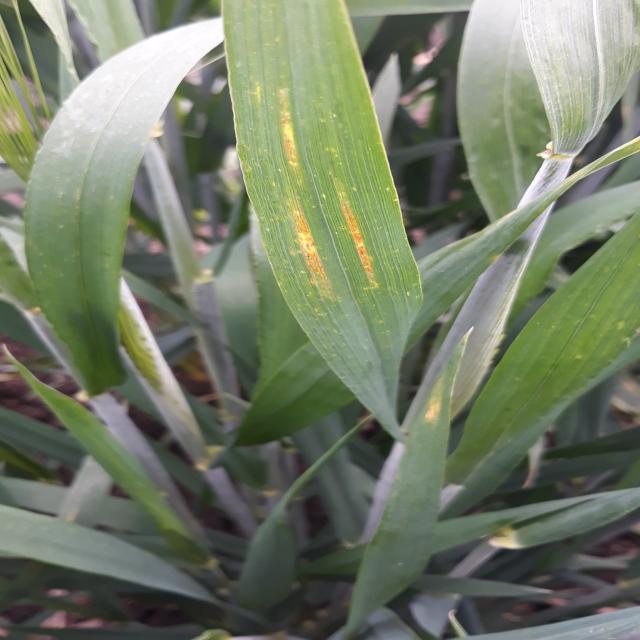yellow_rust: (220, 2, 477, 360), (328, 371, 504, 444), (446, 507, 543, 561)
